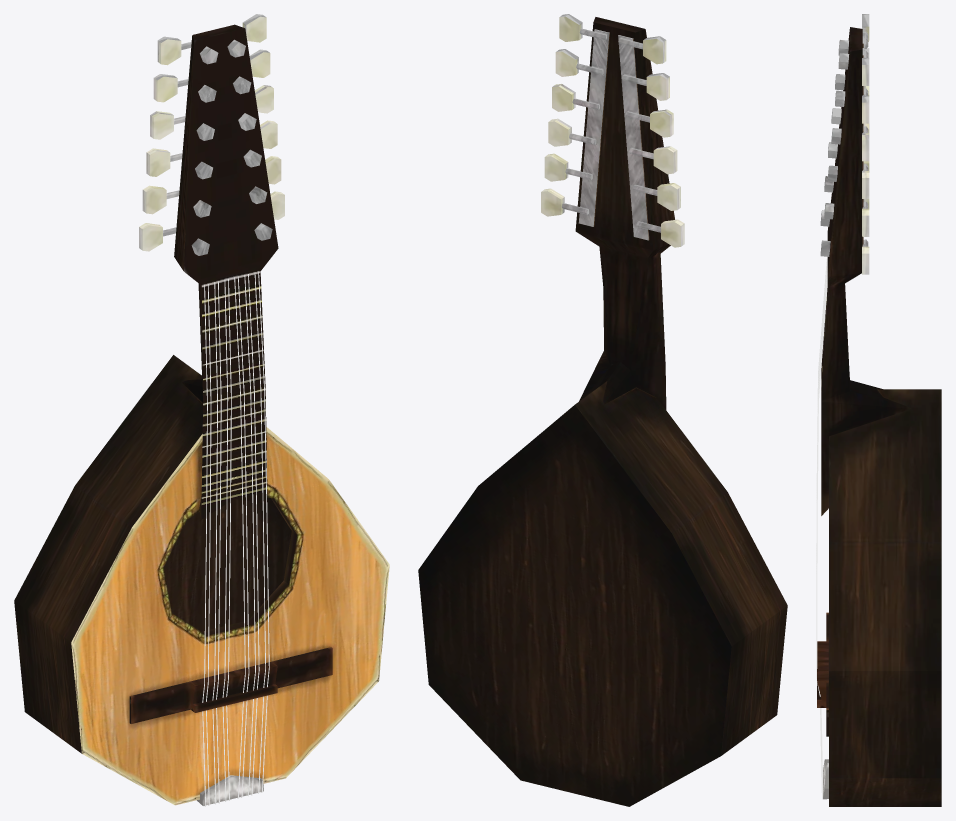
Rendered from colombian_andean_bandola_colombian_instrument.glb.
3 renders of one model, left to right at view 1: azimuth 30°, elevation 25°; view 2: azimuth 150°, elevation 25°; view 3: azimuth 270°, elevation 25°, orthographic.
Parts seen in each view (by area): view 1: Cylinder.001, Cylinder; view 2: Cylinder.001; view 3: Cylinder.001, Cylinder.
Boxes of the visible parts, x1,y1,x2,y2 form: Cylinder.001: (14,14,389,805); Cylinder: (202,271,269,806); Cylinder.001: (418,14,787,806); Cylinder.001: (817,14,941,806); Cylinder: (816,258,827,799).
Size of the model in its own units: 1.97 by 4.47 by 0.6806.
Materials: 2 (1 with a texture image).
